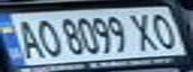0: (75, 13, 96, 55)
8: (57, 15, 81, 56)
9: (106, 11, 133, 53), (90, 14, 115, 54)
A: (9, 16, 45, 60)
O: (145, 10, 184, 51), (30, 16, 63, 58)
Y: (124, 10, 163, 53)
